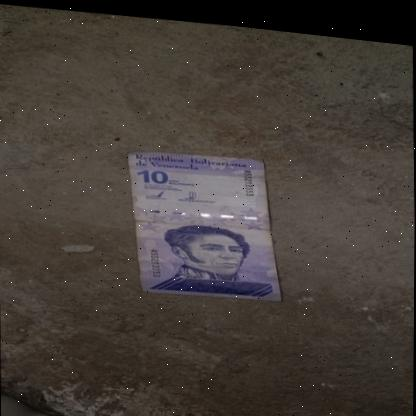ten-front-vef: (125, 139, 283, 301)
